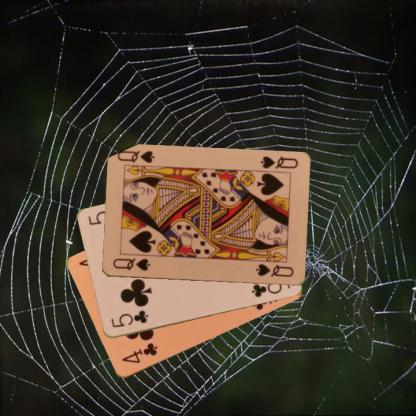4c: (119, 340, 159, 365)
5c: (108, 308, 150, 330)
Qs: (110, 256, 152, 272), (257, 154, 299, 170)
